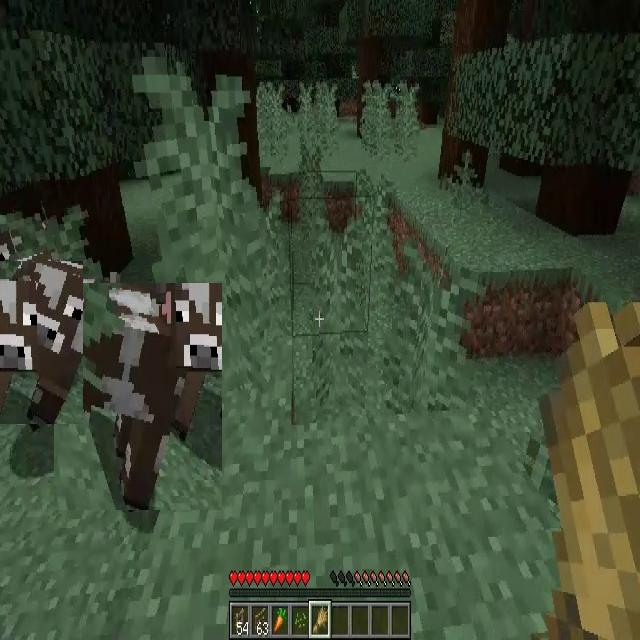cow: (54, 283, 222, 510), (0, 261, 83, 424)
